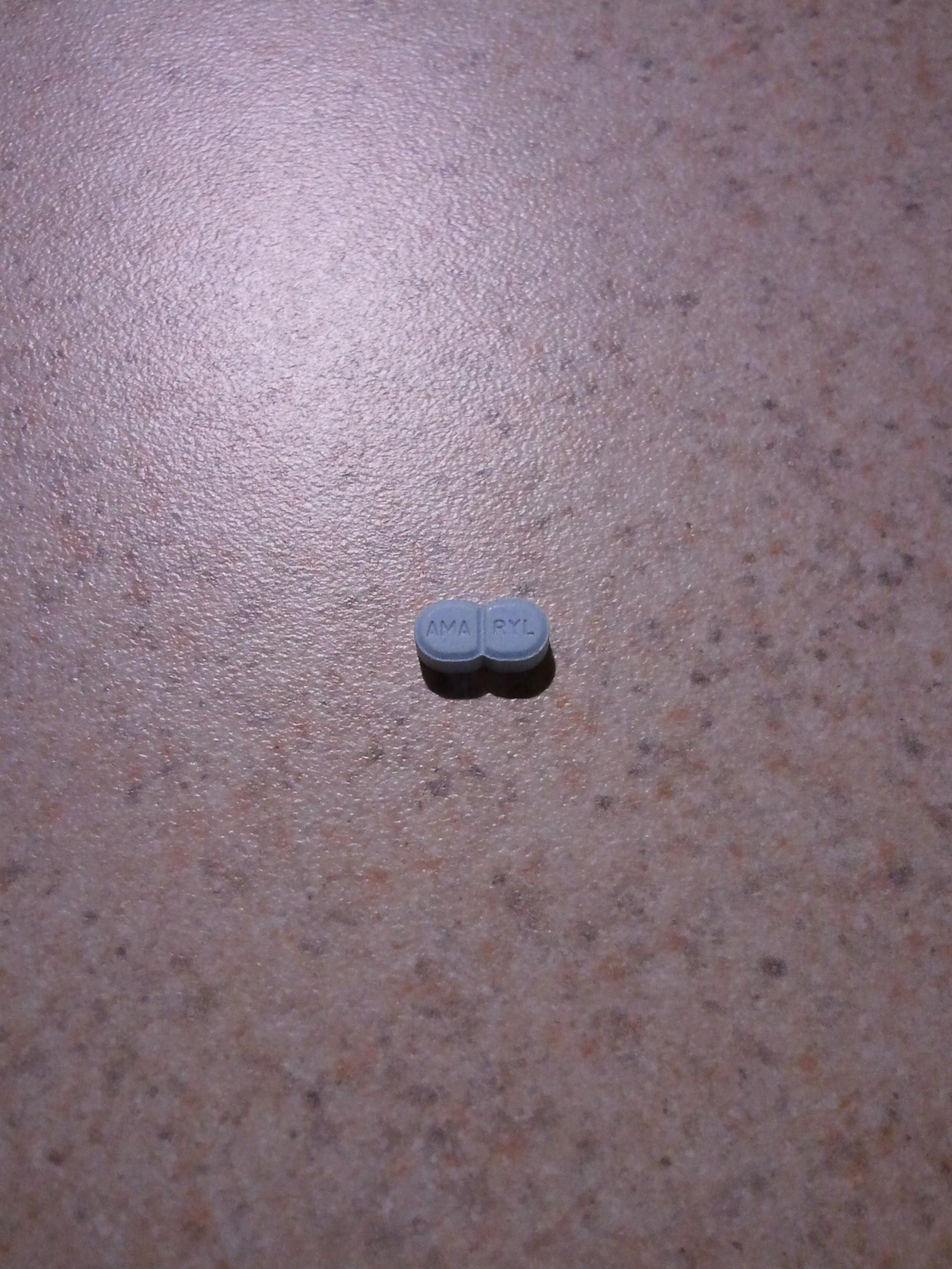Pill: (379, 580, 588, 707)
